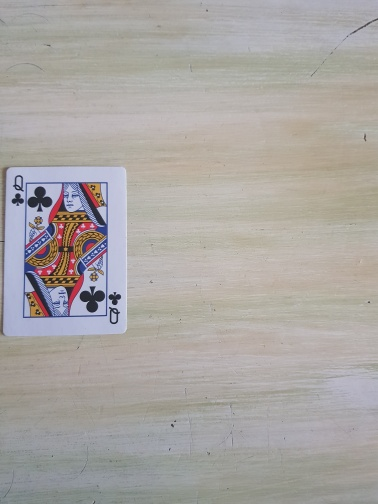queen: (1, 166, 129, 338)
